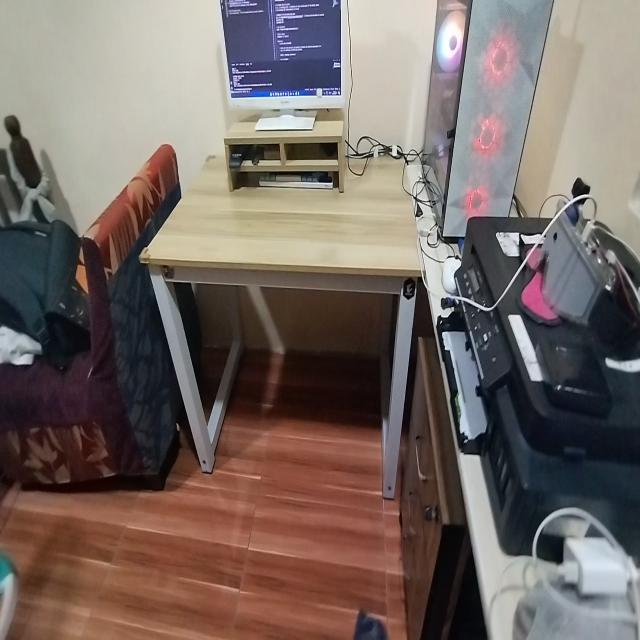table: (153, 135, 432, 503)
